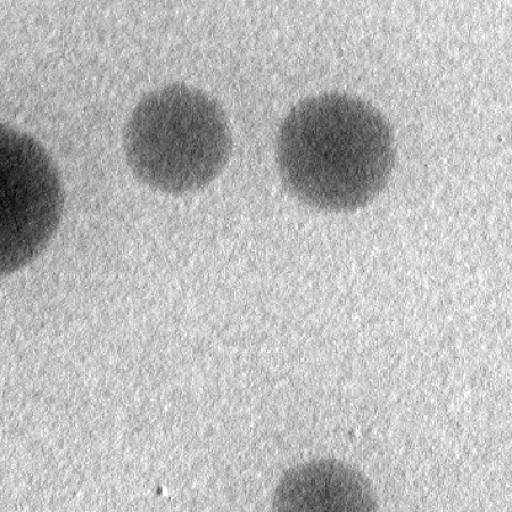Nanoparticles: (274, 89, 396, 209), (122, 81, 234, 199), (2, 124, 62, 281), (272, 459, 384, 512)
